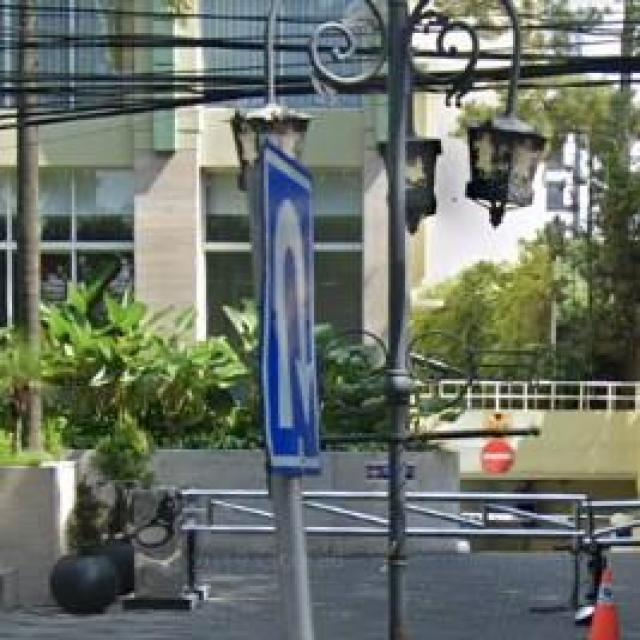traffic sign: (254, 141, 328, 475)
